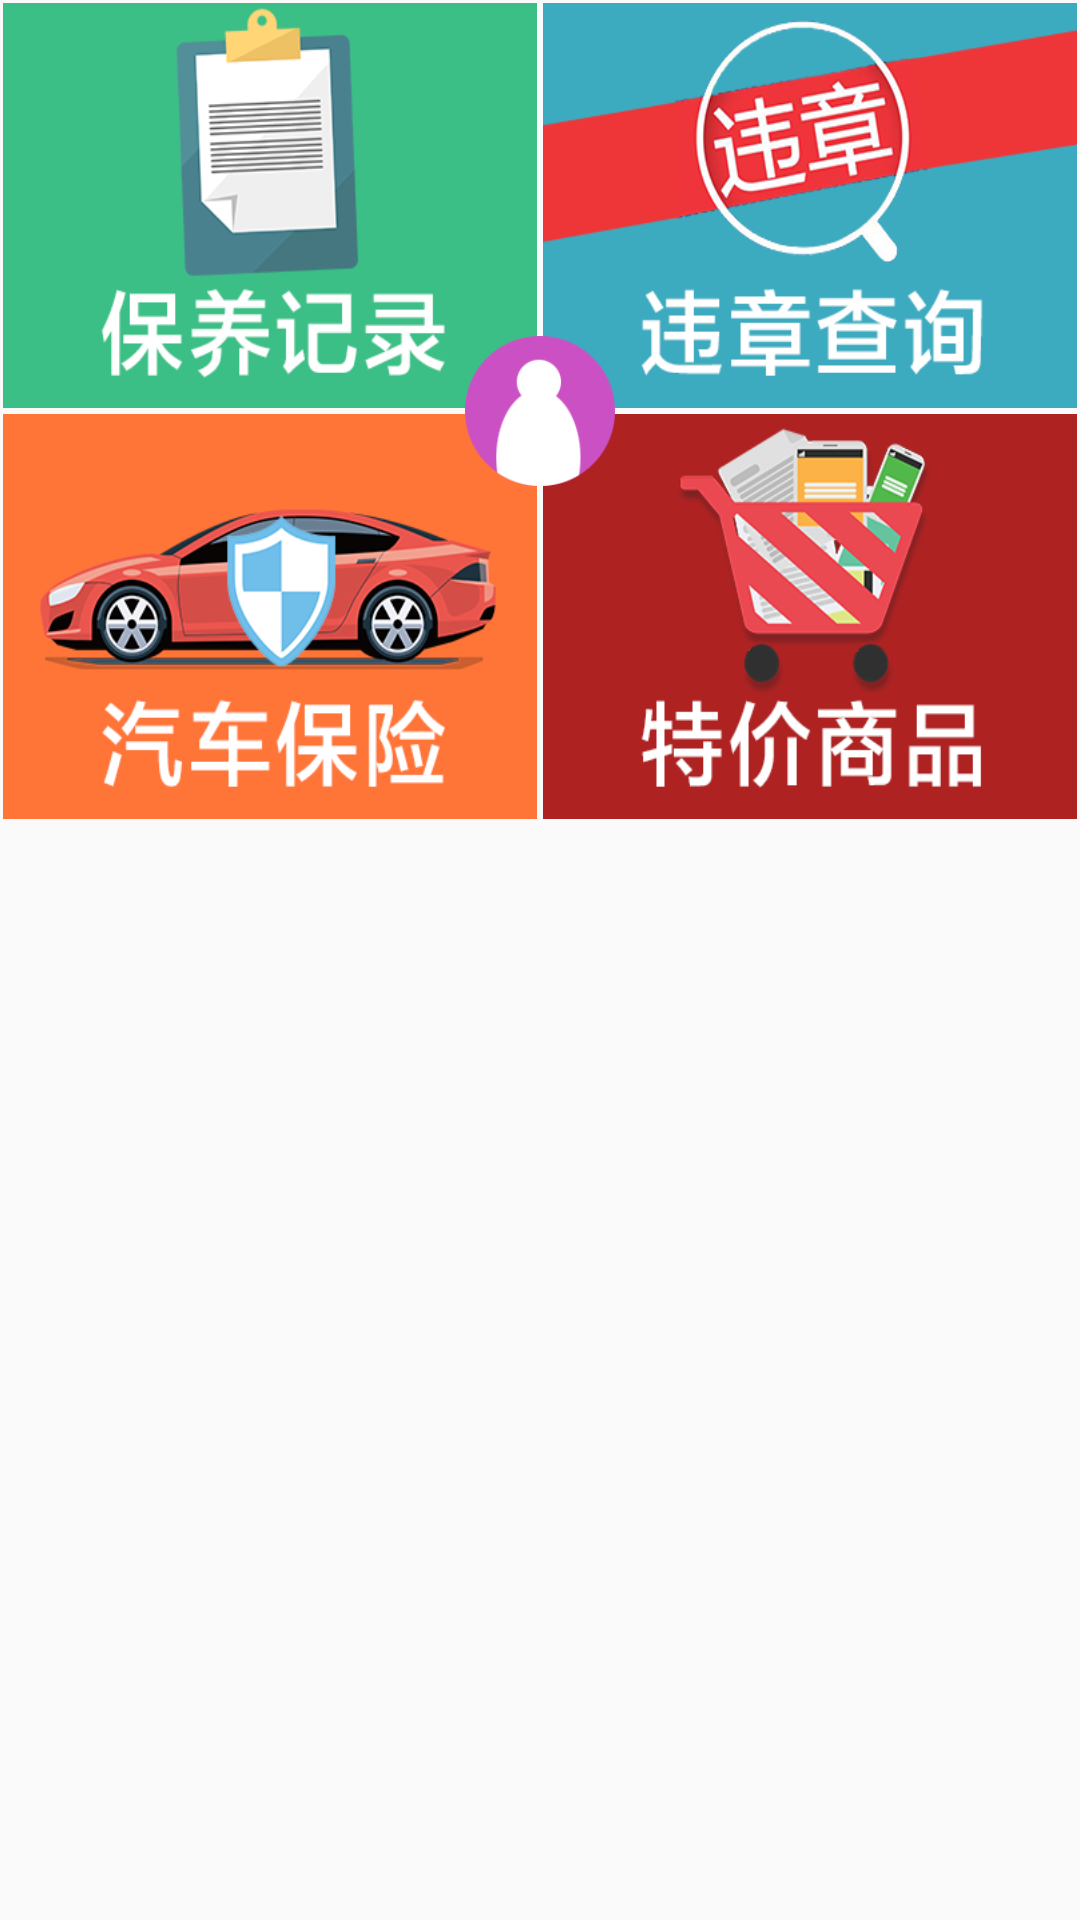

Icons on this 1080 × 1920 Android screen, each with the point to tap as (x=x, y=y):
buttoninf: (x=540, y=411)
